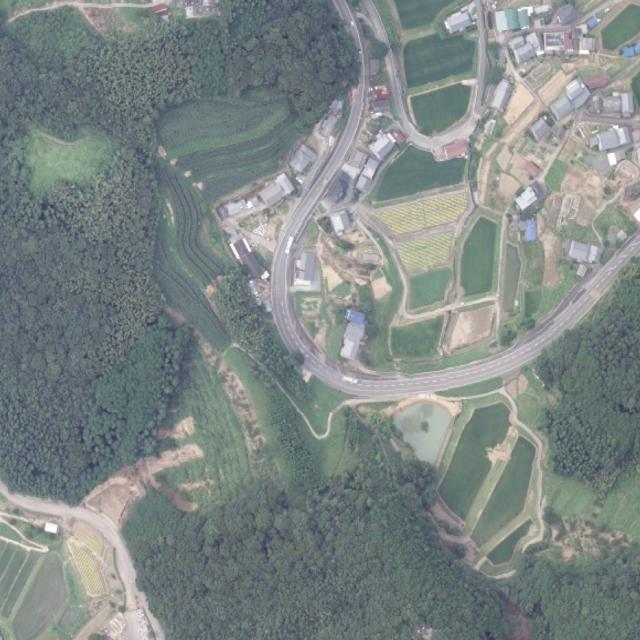landslide: (84, 444, 204, 528)
